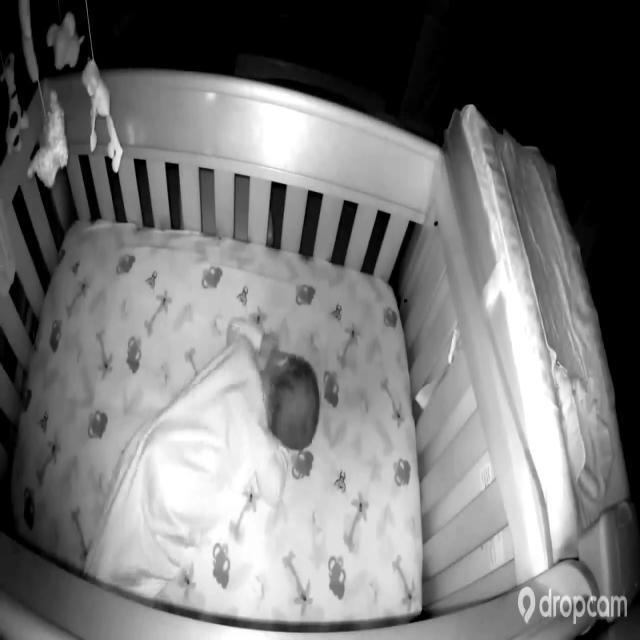baby: (127, 322, 319, 554)
